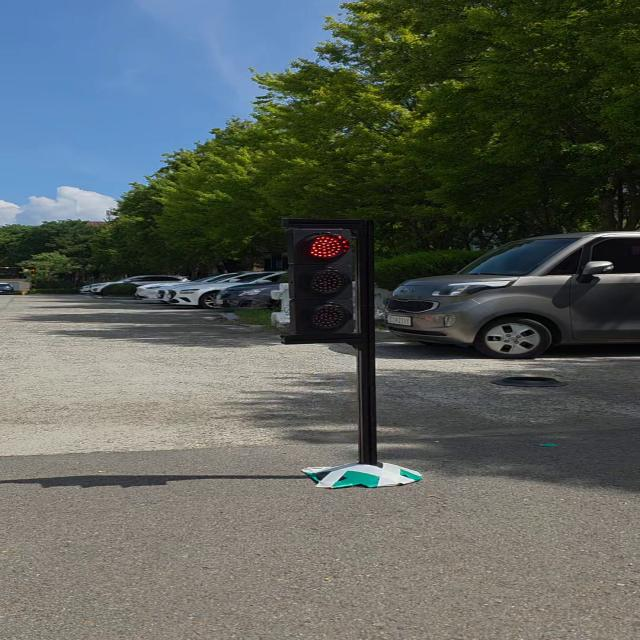red: (271, 222, 374, 342)
